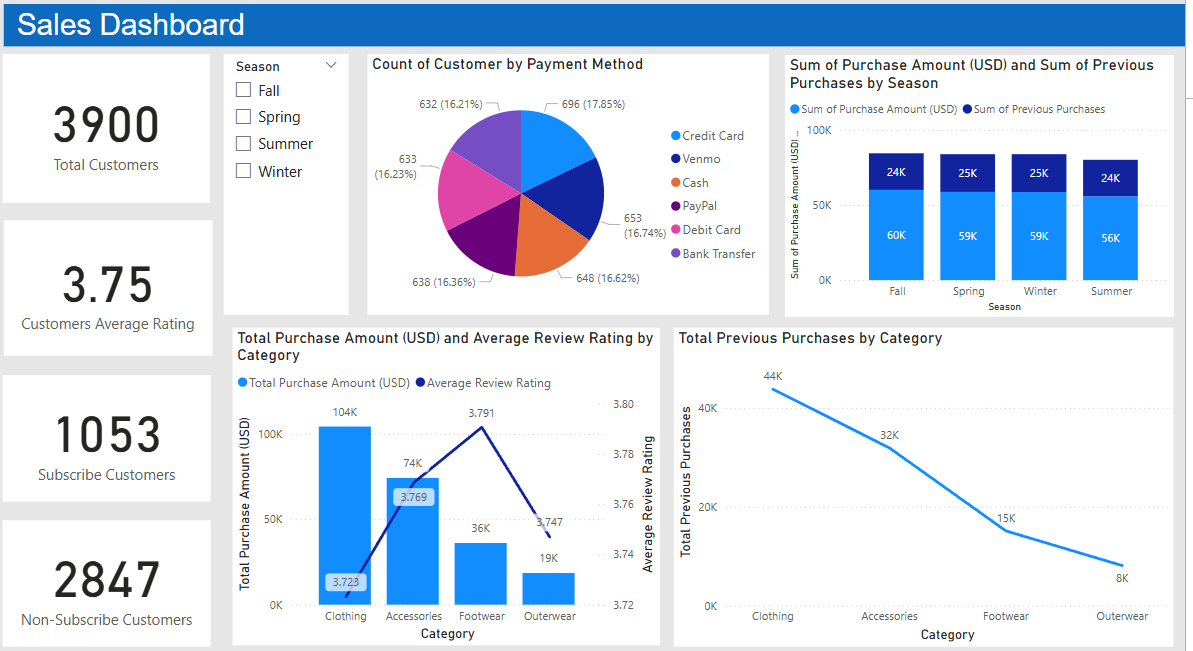

Layout of this report page (visuals, bound fields, positions):
{"tool":"powerbi","page":{"name":"Page 1","canvas":[1280,720],"ordinal":0},"visuals":[{"type":"card","fields":{"Values":["CountNonNull(shopping_trends.Customer ID)"]},"box":[8.1,64.6,223.2,160],"z":0},{"type":"card","fields":{"Values":["Avg(shopping_trends.Review Rating)"]},"box":[9.4,243.4,224.6,145.2],"z":1000},{"type":"card","fields":{"Values":["CountNonNull(shopping_trends.Customer ID)"]},"box":[8.6,410,224.3,135.7],"z":2000},{"type":"card","fields":{"Values":["CountNonNull(shopping_trends.Customer ID)"]},"box":[8.6,565.7,224.3,135.7],"z":3000},{"type":"textbox","box":[9.7,11.1,1270.8,45.8],"z":4000},{"type":"slicer","fields":{"Values":["shopping_trends.Season"]},"box":[246.1,64.6,134.5,281.1],"z":5000},{"type":"lineClusteredColumnComboChart","fields":{"Category":["shopping_trends.Category"],"Y":["Sum(shopping_trends.Purchase Amount (USD))"],"Y2":["Avg(shopping_trends.Review Rating)"]},"box":[255.6,359.7,459.7,341.7],"z":6000},{"type":"lineChart","fields":{"Category":["shopping_trends.Category"],"Y":["Sum(shopping_trends.Previous Purchases)"]},"box":[730.2,359.1,537.9,342.9],"z":7000},{"type":"pieChart","fields":{"Y":["CountNonNull(shopping_trends.Customer ID)"],"Category":["shopping_trends.Payment Method"]},"box":[400.8,64.6,431.7,281.1],"z":8000},{"type":"columnChart","fields":{"Category":["shopping_trends.Season"],"Y":["Sum(shopping_trends.Purchase Amount (USD))","Sum(shopping_trends.Previous Purchases)"]},"box":[850,65.3,418.1,281.9],"z":9000}]}

Visuals, with their boxes on the page's 1280x720 design canvas (x1, y1, x2, y2). These are canvas units, not pixel positions in the 1193x651 screenshot, which may show the page scaled, cropped or inside an application window:
card - CountNonNull(shopping_trends.Customer ID): bbox(8, 65, 231, 225)
card - Avg(shopping_trends.Review Rating): bbox(9, 243, 234, 389)
card - CountNonNull(shopping_trends.Customer ID): bbox(9, 410, 233, 546)
card - CountNonNull(shopping_trends.Customer ID): bbox(9, 566, 233, 701)
textbox: bbox(10, 11, 1280, 57)
slicer - shopping_trends.Season: bbox(246, 65, 381, 346)
lineClusteredColumnComboChart - shopping_trends.Category x Sum(shopping_trends.Purchase Amount (USD)): bbox(256, 360, 715, 701)
lineChart - shopping_trends.Category x Sum(shopping_trends.Previous Purchases): bbox(730, 359, 1268, 702)
pieChart - CountNonNull(shopping_trends.Customer ID) x shopping_trends.Payment Method: bbox(401, 65, 832, 346)
columnChart - shopping_trends.Season x Sum(shopping_trends.Purchase Amount (USD)): bbox(850, 65, 1268, 347)
